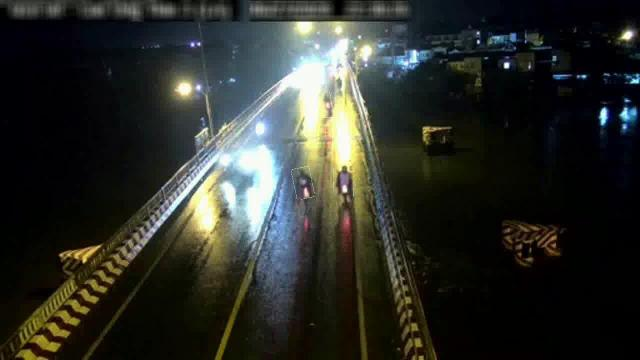Bike: (334, 163, 354, 201), (292, 167, 314, 199), (320, 93, 332, 119)
